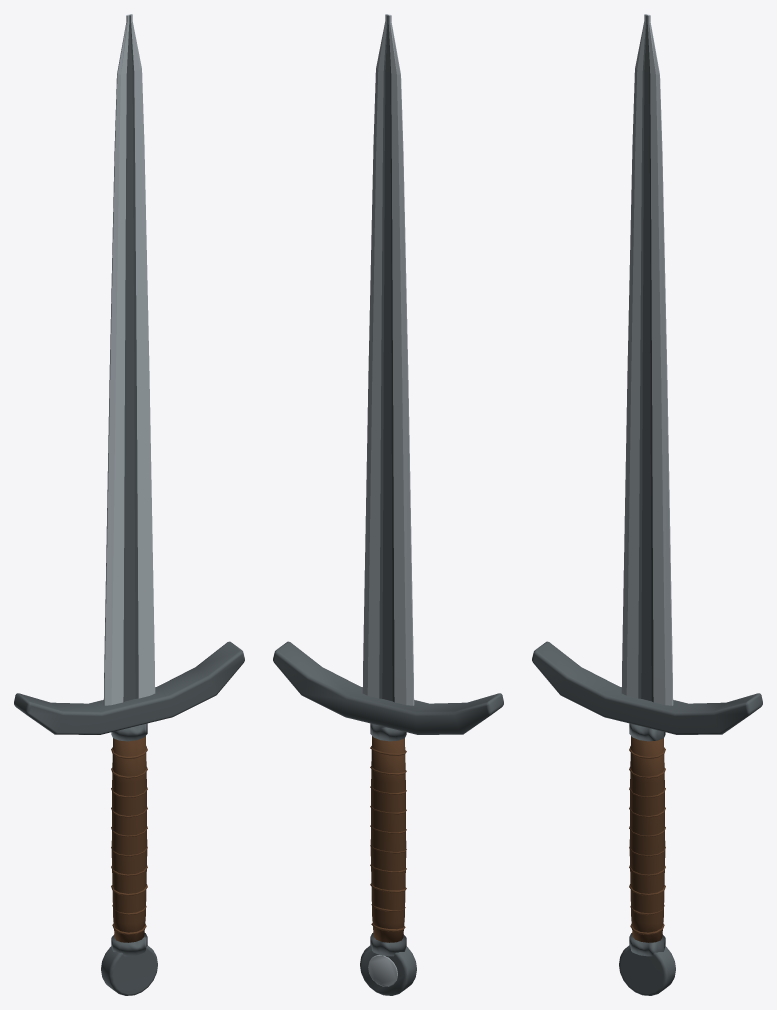
The model's file is sword.glb.
The picture shows the model from 3 angles, left to right: view 1: azimuth 30°, elevation 25°; view 2: azimuth 150°, elevation 25°; view 3: azimuth 330°, elevation 25°; orthographic projection.
Visible parts, largest first — view 1: SM_sword; view 2: SM_sword; view 3: SM_sword.
Boxes of the visible parts, x1,y1,x2,y2 form: SM_sword: (14, 14, 244, 995); SM_sword: (273, 14, 503, 995); SM_sword: (532, 14, 762, 995).
Size of the model in its own units: 0.2225 by 0.95 by 0.028.
